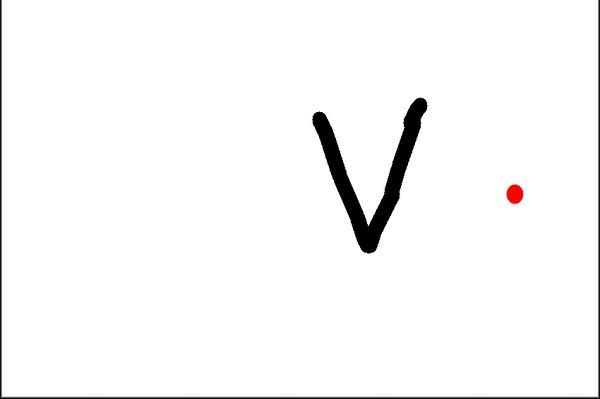V: (305, 89, 434, 254)
